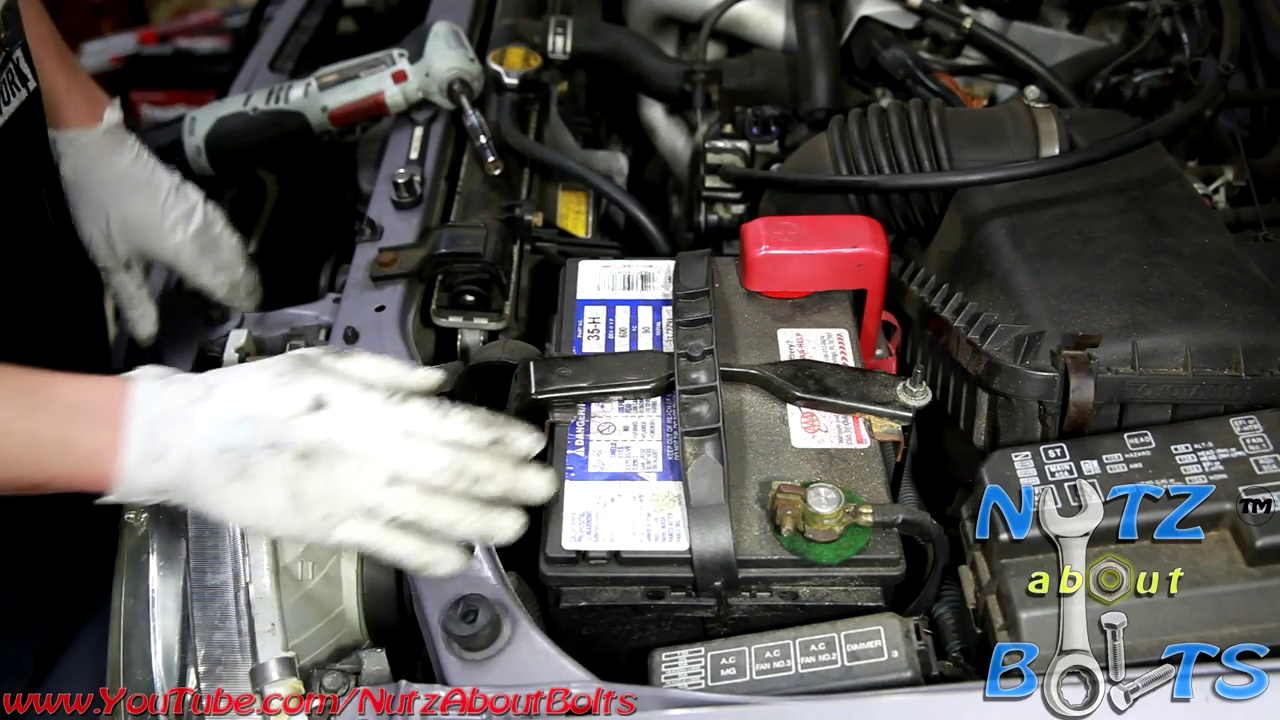battery: (552, 199, 903, 613)
neg_connected: (763, 443, 910, 570)
pos_connected: (701, 191, 895, 334)
